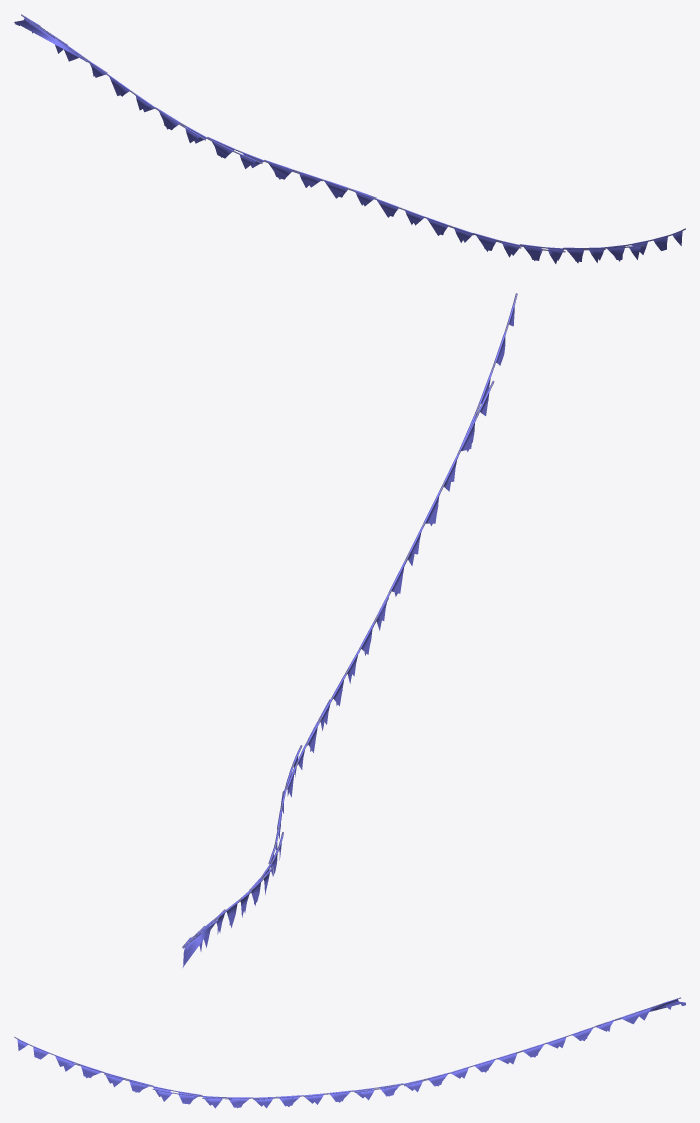
The model's file is SM_rope_flags_01_Splines_2.fbx.
3 renders of one model, top to bottom at view 1: azimuth 30°, elevation 25°; view 2: azimuth 150°, elevation 25°; view 3: azimuth 270°, elevation 25°, orthographic. The views are drawn at different scales.
Parts seen in each view (by area): view 1: SM_rope_flags_01_Splines_2_LOD0; view 2: SM_rope_flags_01_Splines_2_LOD0; view 3: SM_rope_flags_01_Splines_2_LOD0.
Boxes of the visible parts, box(x1,y1,x2,y2) form: SM_rope_flags_01_Splines_2_LOD0: box(14, 14, 685, 263); SM_rope_flags_01_Splines_2_LOD0: box(182, 293, 517, 967); SM_rope_flags_01_Splines_2_LOD0: box(14, 997, 685, 1108).
Bounding box in the file's own units: 750 × 2565 × 408.
